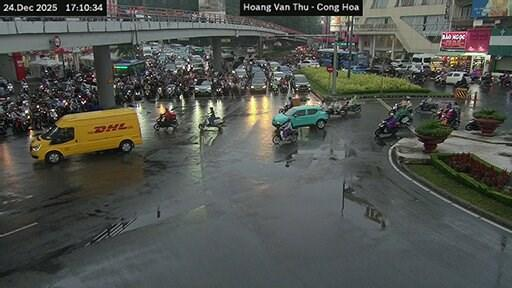motorbike: (272, 127, 297, 144), (154, 113, 178, 130), (199, 113, 223, 129), (374, 120, 397, 135), (441, 113, 460, 129), (394, 109, 412, 125), (415, 100, 438, 111), (326, 102, 345, 115), (339, 103, 361, 112), (464, 118, 480, 130), (499, 72, 511, 85), (480, 77, 492, 88), (435, 73, 445, 85), (278, 103, 290, 112), (0, 117, 6, 134), (454, 81, 467, 88), (271, 81, 278, 93), (391, 103, 399, 112)
